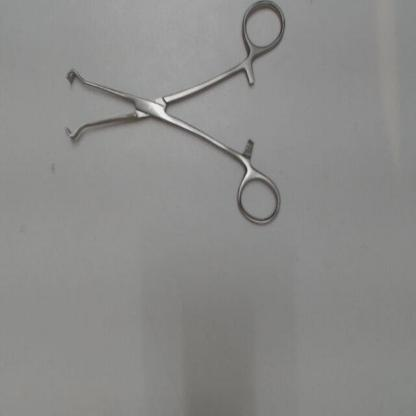Babcock Tissue Forceps: (61, 2, 289, 235)
